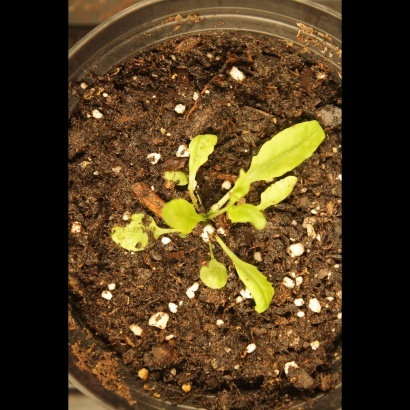leaf: (247, 119, 338, 184), (231, 258, 281, 318), (102, 205, 159, 255), (156, 197, 202, 238), (226, 202, 273, 239), (197, 248, 232, 296), (259, 175, 300, 215), (182, 130, 222, 169), (226, 164, 254, 210), (157, 163, 201, 190)
